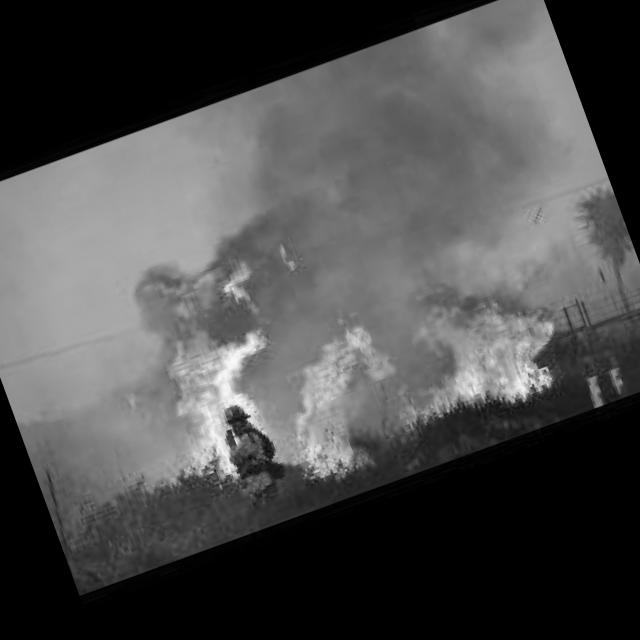fire: (112, 163, 574, 525)
